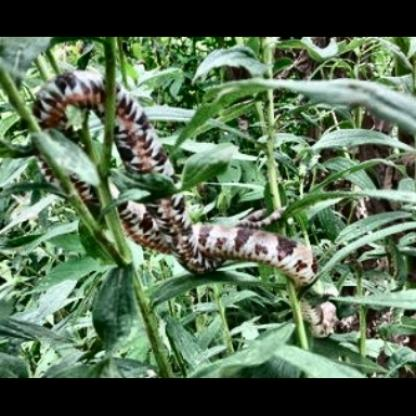Snake: (22, 72, 371, 338)
